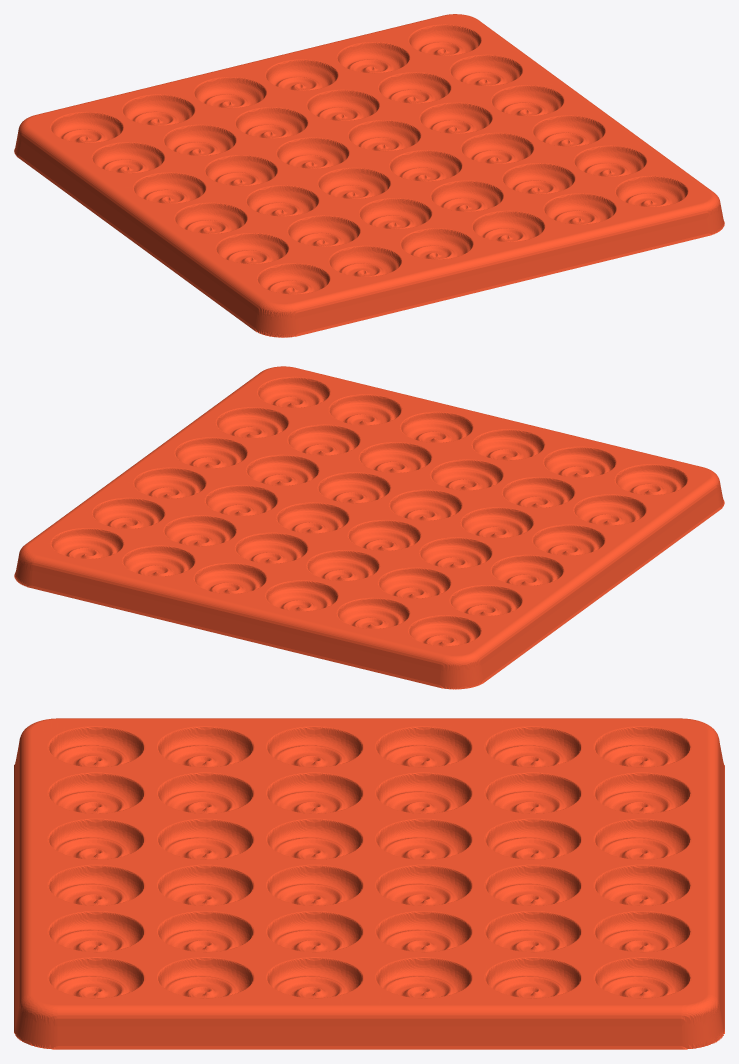
Rendered from mold.glb.
The picture shows the model from 3 angles, top to bottom: view 1: azimuth 30°, elevation 25°; view 2: azimuth 150°, elevation 25°; view 3: azimuth 270°, elevation 25°; orthographic projection. The views are drawn at different scales.
Visible parts, largest first — view 1: geometry_0; view 2: geometry_0; view 3: geometry_0.
Boxes of the visible parts, x1,y1,x2,y2 form: geometry_0: (14,14,724,337); geometry_0: (14,366,724,689); geometry_0: (14,718,724,1049).
Size of the model in its own units: 0.1447 by 0.00831 by 0.1447.
